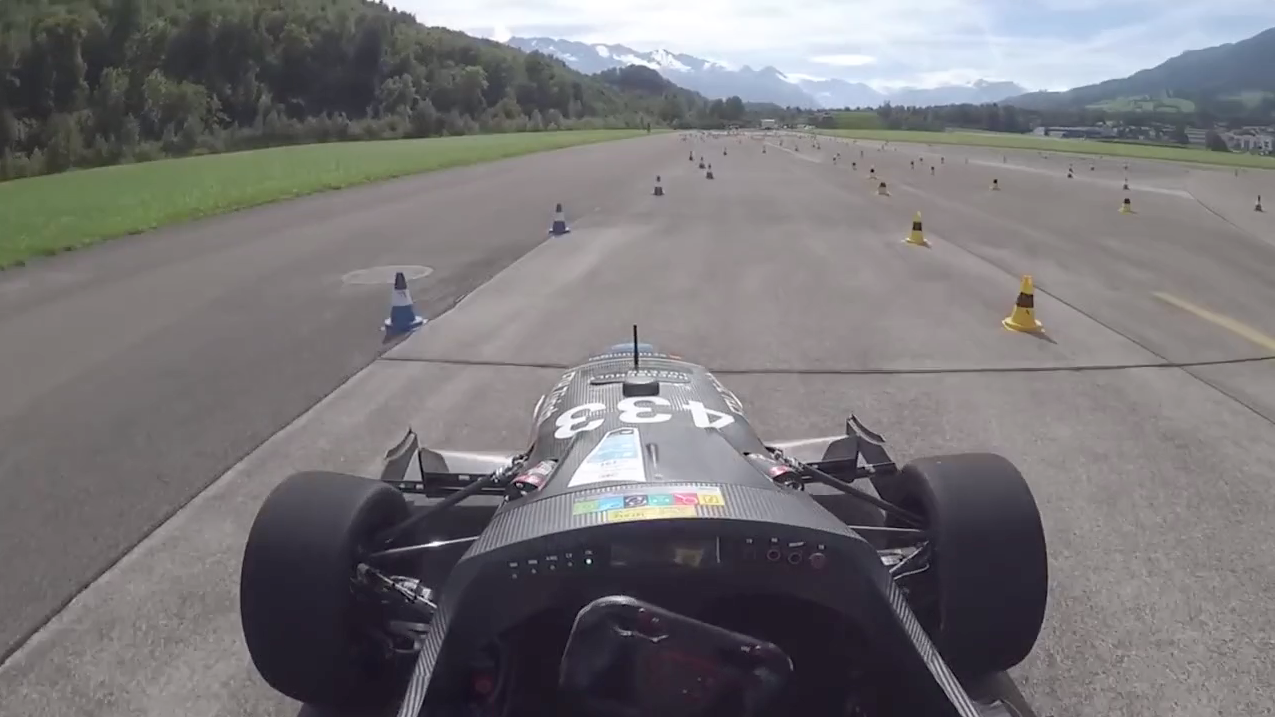lcone: (375, 268, 428, 339), (546, 197, 573, 239)
rcone: (997, 272, 1044, 338), (903, 211, 933, 251)
